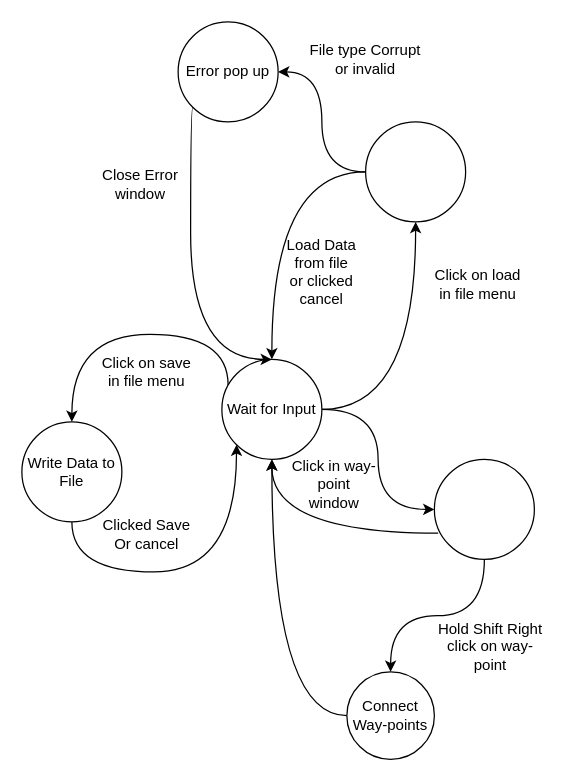
Image size: 569x781. Some labels were removed from this diagram. Here are the shapes that lost their labels. From the top down, the box of each, then its label:
(364, 121, 466, 222): Load Data From File
(433, 458, 534, 559): Create Way-point
